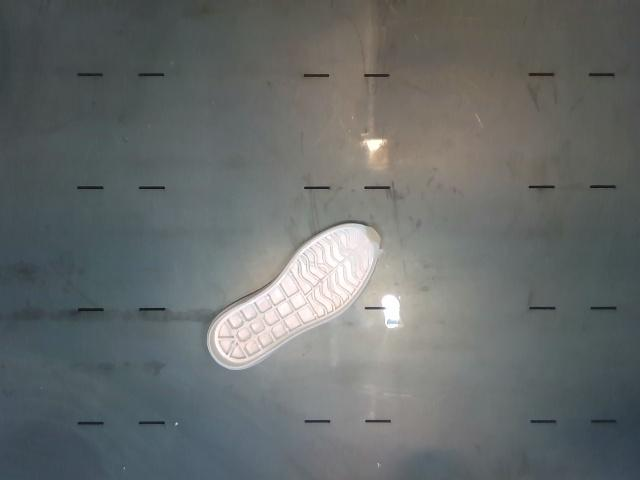shoes: (209, 225, 381, 367)
